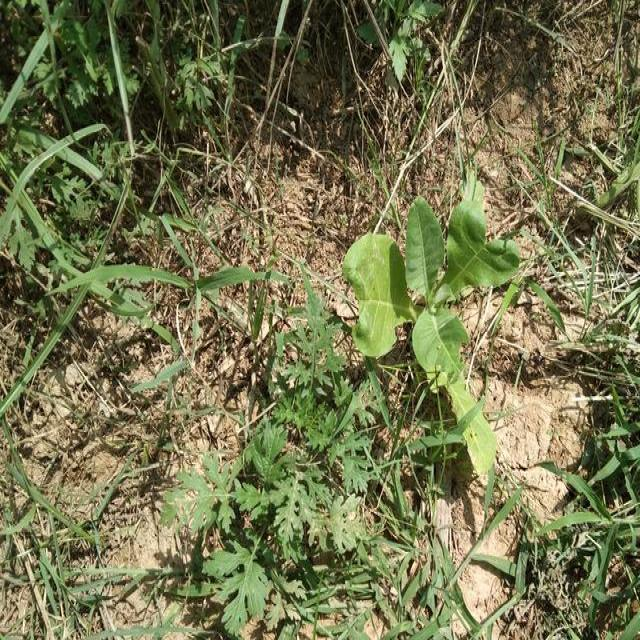crop: (339, 195, 516, 488)
